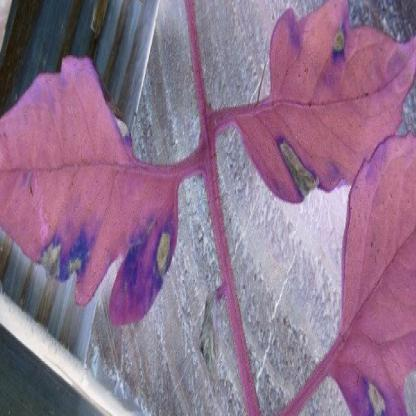Tomato leaf late blight: (3, 28, 186, 338), (232, 6, 411, 230)
